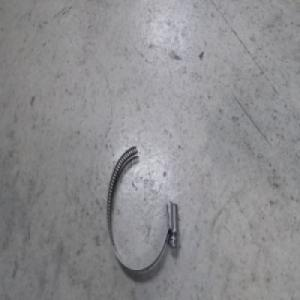AdjustableClamp: (106, 140, 178, 270)
